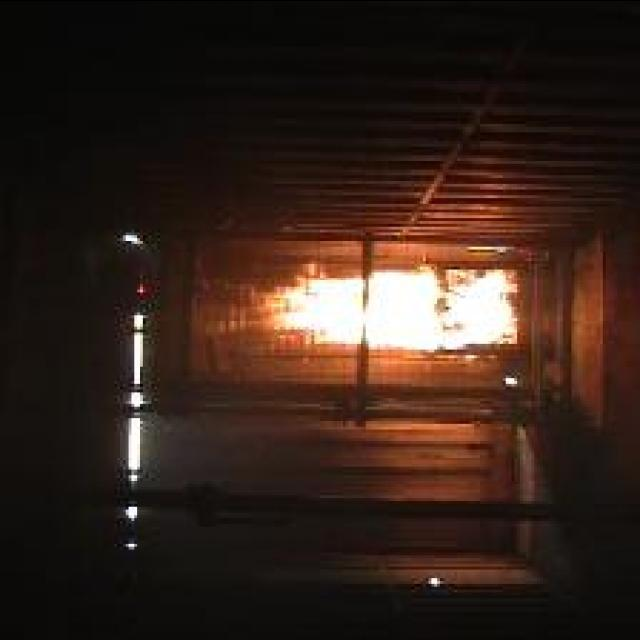Fire: (262, 267, 518, 350)
